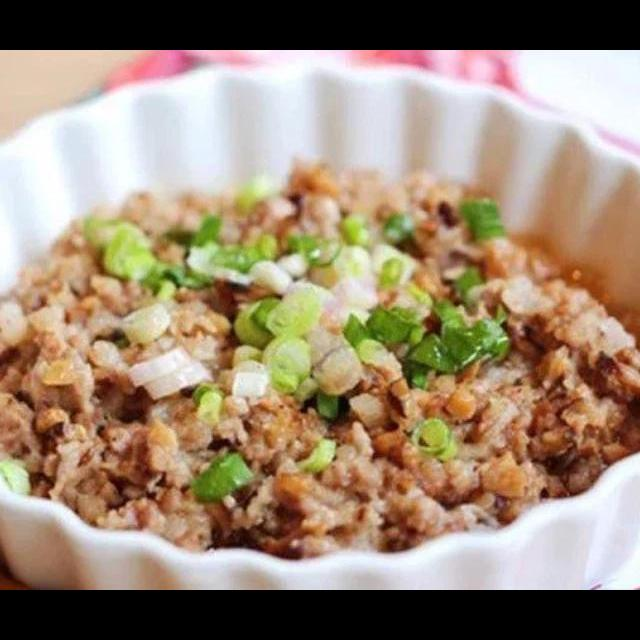thit bam: (0, 145, 640, 577)
